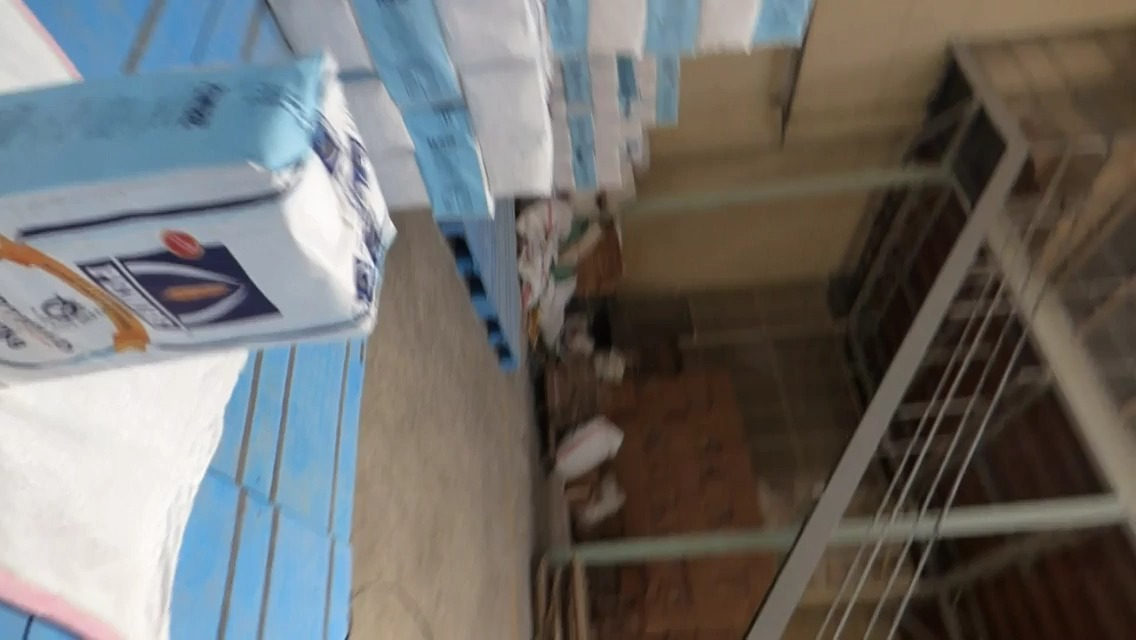wheat_flour_blue_label: (9, 57, 395, 389)
